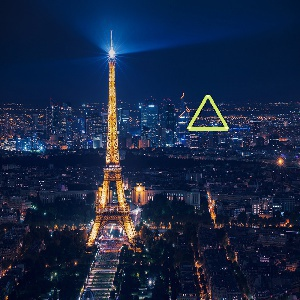triangle: (184, 92, 233, 135)
